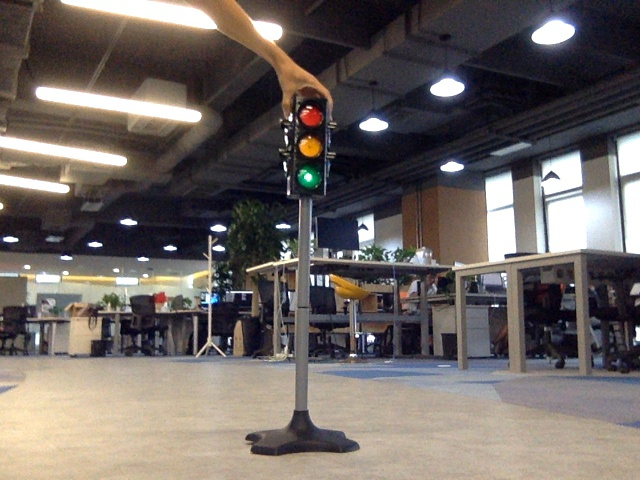green: (294, 104, 323, 193)
